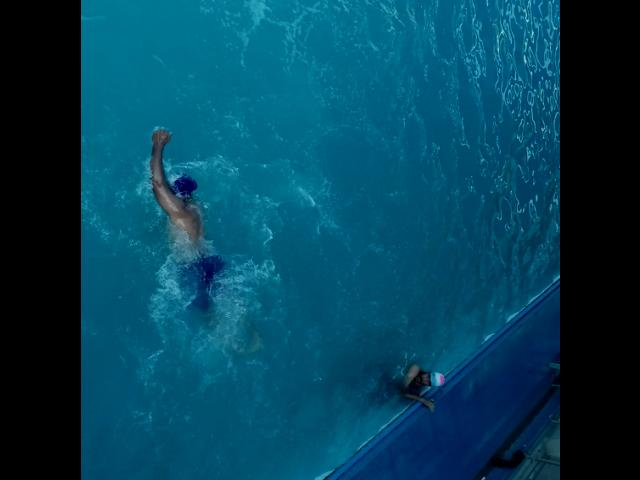drowning: (154, 130, 234, 308)
swimming: (374, 362, 448, 416)
